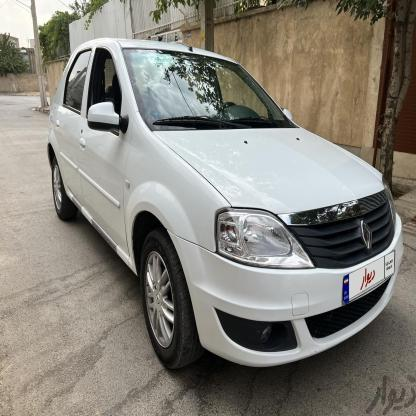Car: (42, 31, 407, 377)
